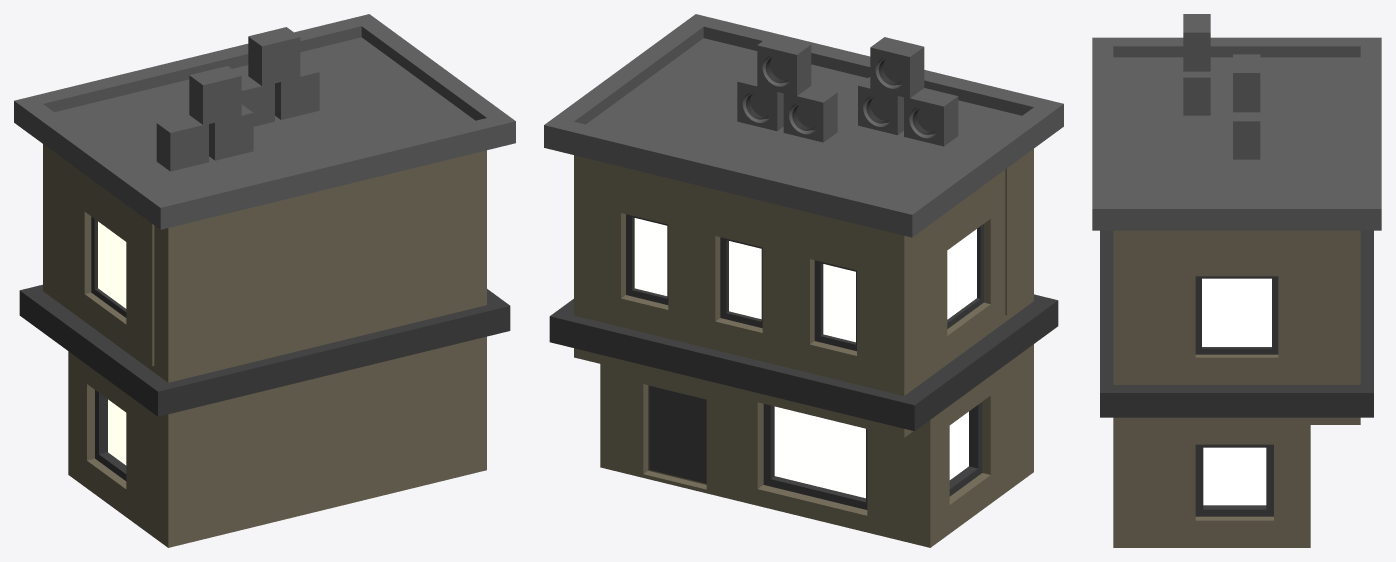
File: house1.fbx
The picture shows the model from 3 angles, left to right: view 1: azimuth 30°, elevation 25°; view 2: azimuth 150°, elevation 25°; view 3: azimuth 270°, elevation 25°; orthographic projection. The views are drawn at different scales.
Visible parts, largest first — view 1: Cube.017; view 2: Cube.017; view 3: Cube.017.
Part boxes in pixels (left/top/right/bottom): Cube.017: left=14, top=14, right=515, bottom=547; Cube.017: left=544, top=14, right=1063, bottom=547; Cube.017: left=1092, top=14, right=1381, bottom=547.
Bounding box in the file's own units: 499 × 563 × 356.
